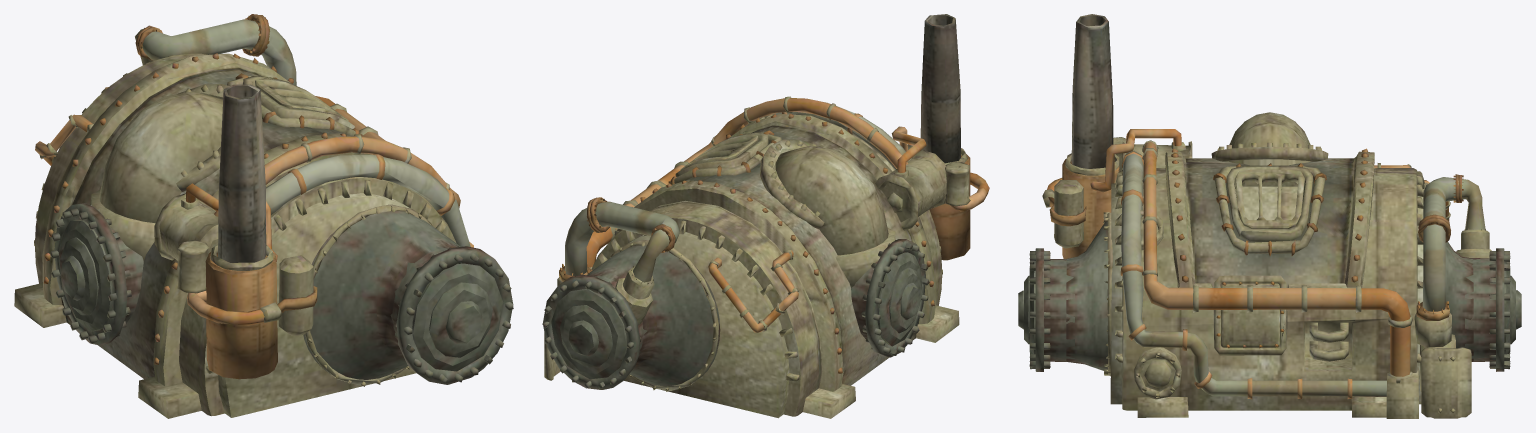
File: boiler-west.glb
The picture shows the model from 3 angles, left to right: view 1: azimuth 30°, elevation 25°; view 2: azimuth 150°, elevation 25°; view 3: azimuth 270°, elevation 25°; orthographic projection. The views are drawn at different scales.
Parts seen in each view (by area): view 1: body; view 2: body; view 3: body.
Boxes of the visible parts, left/top/right/bottom form: body: left=14, top=14, right=513, bottom=418; body: left=542, top=14, right=989, bottom=418; body: left=1018, top=14, right=1521, bottom=418.
Bounding box in the file's own units: 2.03 × 1.96 × 3.09.
1 material, 1 textured.
